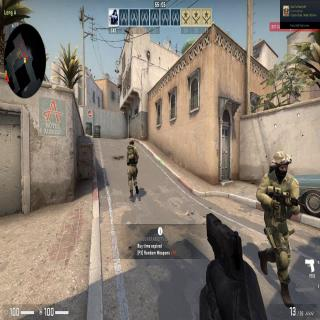CT-Body: (263, 148, 291, 288), (125, 138, 139, 195)
CT-Head: (267, 150, 291, 177), (128, 137, 134, 147)
